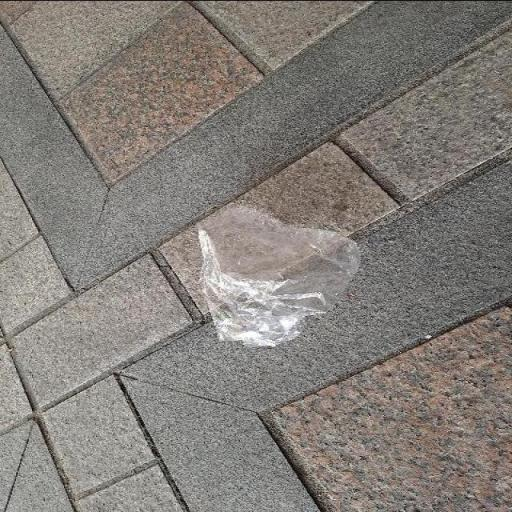plastic-bag: (194, 204, 362, 346)
